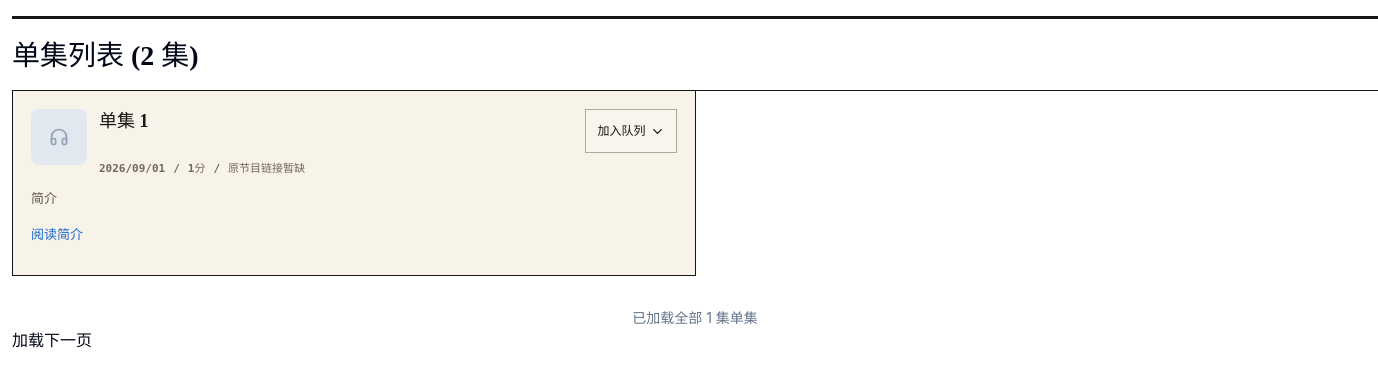
episode list action queue flow › navigates the queue menu with a keyboard and restores focus on Escape
This screenshot has width=1378, height=365.
Click the button with aria-label "加入队列，单集 1，打开队列菜单": [631, 131] box [586,109,676,153]
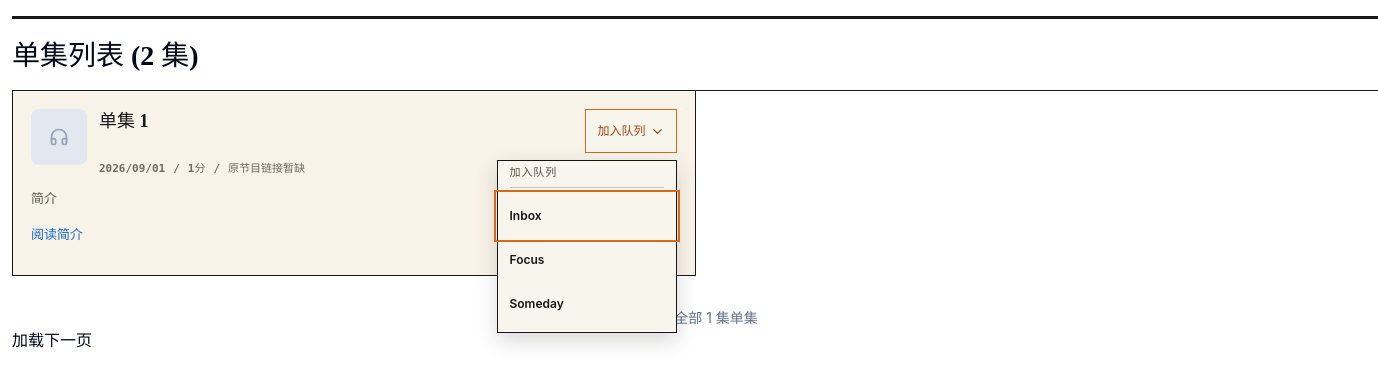
Press Arrowdown
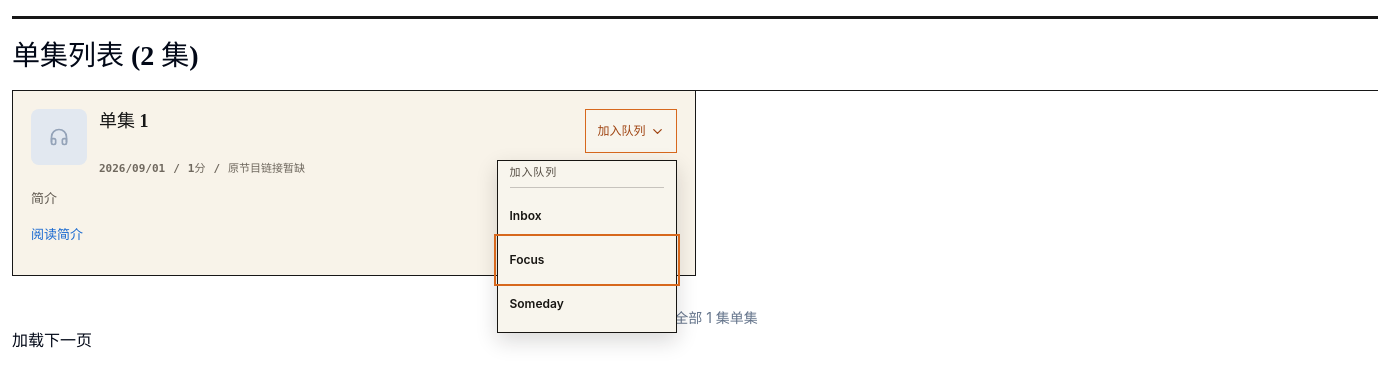
Press Escape
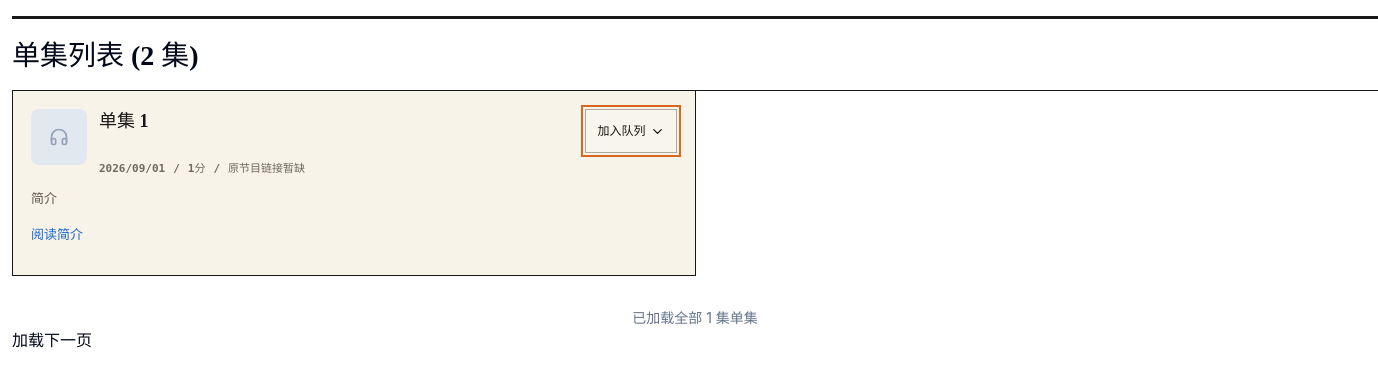
Check: the menu is gone
